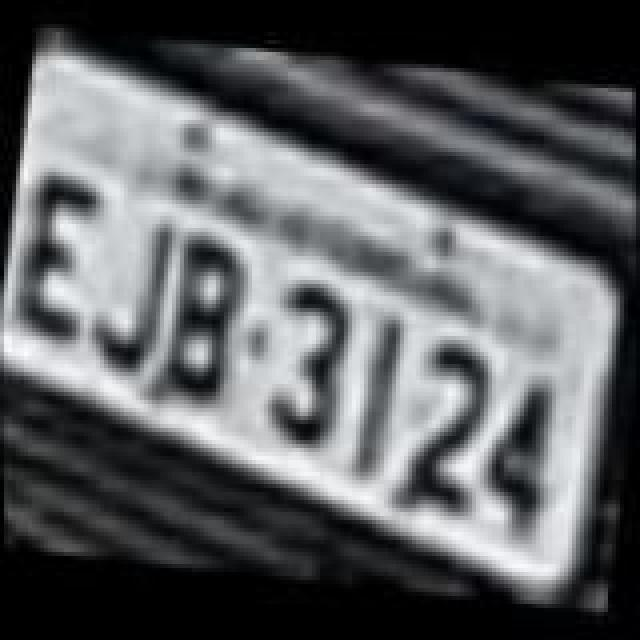1: (338, 304, 414, 484)
2: (394, 330, 506, 522)
3: (254, 270, 370, 458)
4: (462, 366, 578, 554)
B: (154, 224, 258, 404)
E: (12, 158, 108, 338)
J: (74, 202, 182, 382)
